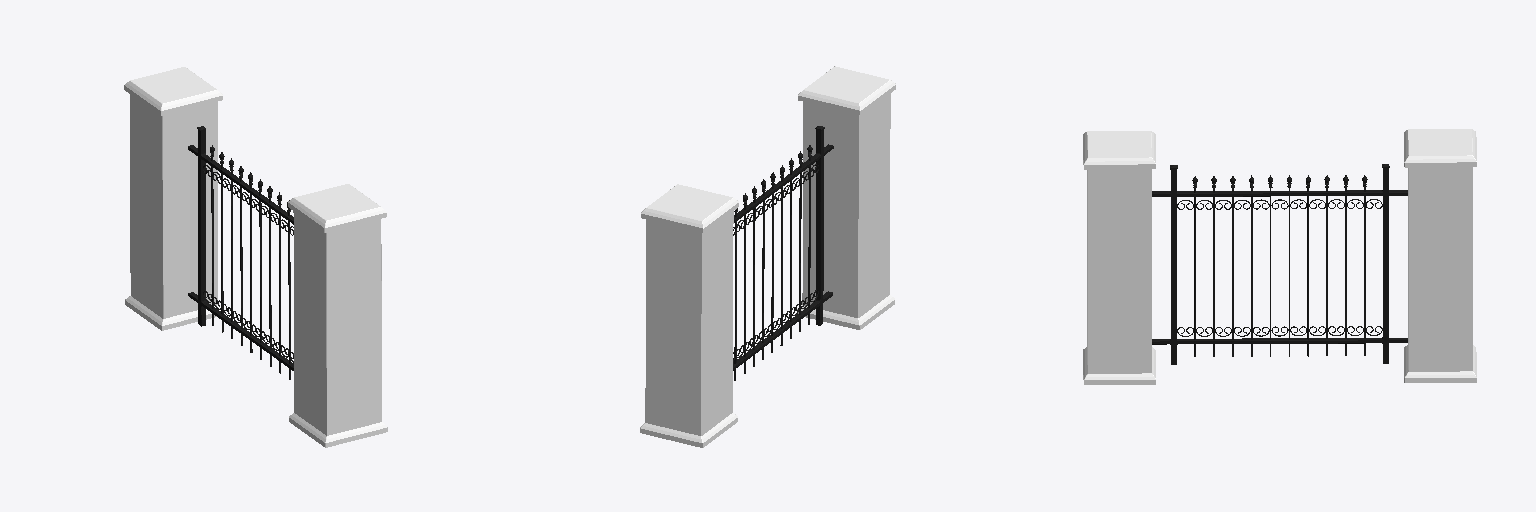
File: Fence2.obj
3 views of the same model, side by side, from view 1: azimuth 30°, elevation 25°; view 2: azimuth 150°, elevation 25°; view 3: azimuth 270°, elevation 25° (orthographic).
Parts seen in each view (by area): view 1: Wrought_Iron_fence_with_brick_5, Wrought_Iron_fence_with_brick_1, Wrought_Iron_fence_with_brick_6, Wrought_Iron_fence_with_brick_4, Wrought_Iron_fence_with_brick_8, Wrought_Iron_fence_with_brick_11, Wrought_Iron_fence_with_brick_3, Wrought_Iron_fence_with_brick_2, Wrought_Iron_fence_with_brick_9; view 2: Wrought_Iron_fence_with_brick_1, Wrought_Iron_fence_with_brick_5, Wrought_Iron_fence_with_brick_4, Wrought_Iron_fence_with_brick_8, Wrought_Iron_fence_with_brick_6, Wrought_Iron_fence_with_brick_11, Wrought_Iron_fence_with_brick_2, Wrought_Iron_fence_with_brick_3, Wrought_Iron_fence_with_brick_9; view 3: Wrought_Iron_fence_with_brick_1, Wrought_Iron_fence_with_brick_5, Wrought_Iron_fence_with_brick_6, Wrought_Iron_fence_with_brick_11, Wrought_Iron_fence_with_brick_8, Wrought_Iron_fence_with_brick_4, Wrought_Iron_fence_with_brick_9, Wrought_Iron_fence_with_brick_3, Wrought_Iron_fence_with_brick_2.
Boxes of the visible parts, <box> form: Wrought_Iron_fence_with_brick_5: <box>293,211,381,435</box>; Wrought_Iron_fence_with_brick_1: <box>130,94,217,318</box>; Wrought_Iron_fence_with_brick_6: <box>188,130,293,370</box>; Wrought_Iron_fence_with_brick_4: <box>124,67,222,115</box>; Wrought_Iron_fence_with_brick_8: <box>288,184,386,232</box>; Wrought_Iron_fence_with_brick_11: <box>211,158,290,379</box>; Wrought_Iron_fence_with_brick_3: <box>289,413,387,447</box>; Wrought_Iron_fence_with_brick_2: <box>125,296,220,330</box>; Wrought_Iron_fence_with_brick_9: <box>203,165,293,362</box>; Wrought_Iron_fence_with_brick_1: <box>645,211,733,435</box>; Wrought_Iron_fence_with_brick_5: <box>802,93,890,317</box>; Wrought_Iron_fence_with_brick_4: <box>641,184,738,232</box>; Wrought_Iron_fence_with_brick_8: <box>798,66,895,115</box>; Wrought_Iron_fence_with_brick_6: <box>733,129,833,370</box>; Wrought_Iron_fence_with_brick_11: <box>734,157,810,380</box>; Wrought_Iron_fence_with_brick_2: <box>640,413,737,447</box>; Wrought_Iron_fence_with_brick_3: <box>797,295,894,329</box>; Wrought_Iron_fence_with_brick_9: <box>733,164,818,361</box>; Wrought_Iron_fence_with_brick_1: <box>1408,167,1472,371</box>; Wrought_Iron_fence_with_brick_5: <box>1087,169,1151,373</box>; Wrought_Iron_fence_with_brick_6: <box>1152,168,1407,364</box>; Wrought_Iron_fence_with_brick_11: <box>1194,184,1365,356</box>; Wrought_Iron_fence_with_brick_8: <box>1083,131,1155,169</box>; Wrought_Iron_fence_with_brick_4: <box>1404,129,1476,167</box>; Wrought_Iron_fence_with_brick_9: <box>1177,199,1382,336</box>; Wrought_Iron_fence_with_brick_3: <box>1083,347,1155,384</box>; Wrought_Iron_fence_with_brick_2: <box>1404,345,1476,382</box>.
Size of the model in its own units: 67.55 by 214 by 339.